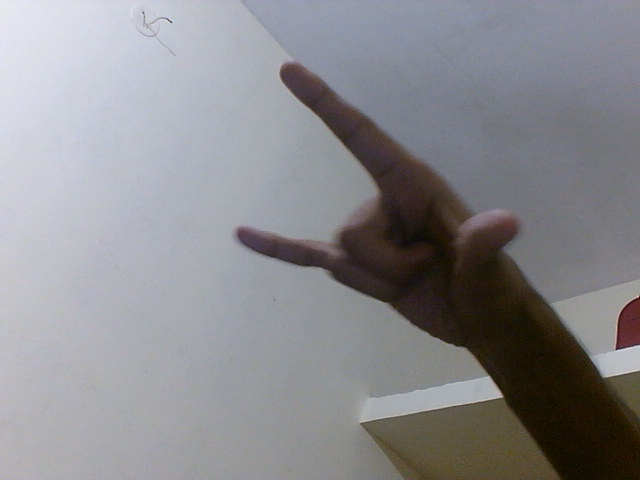hand: (230, 58, 534, 364)
